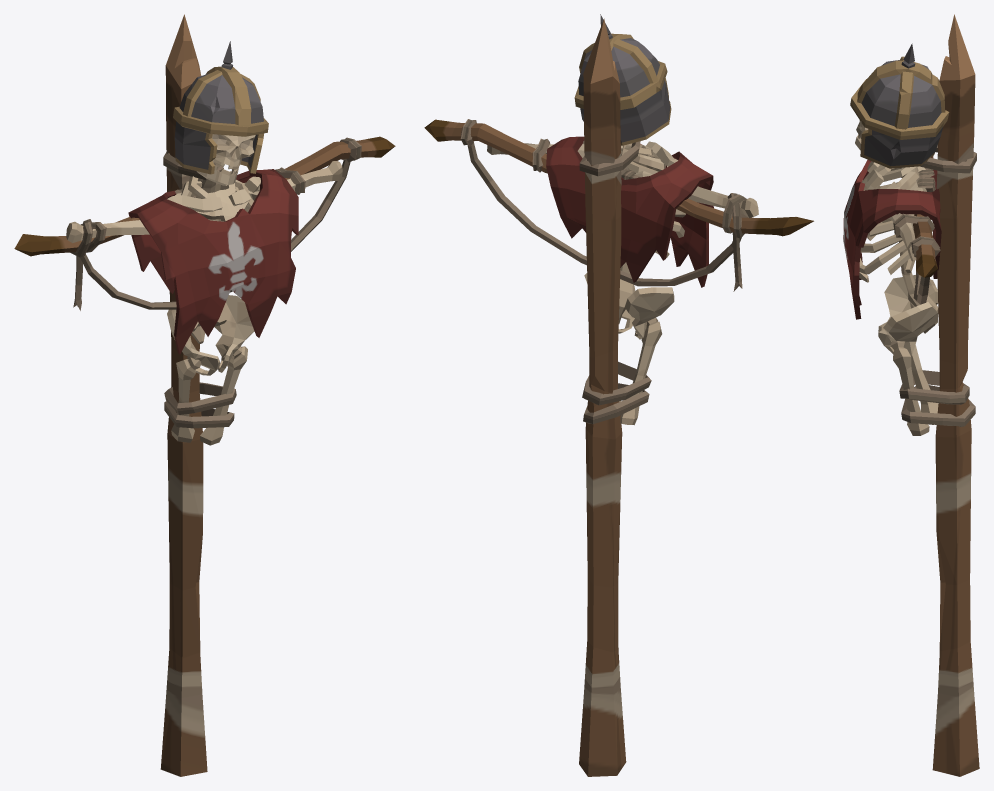
Rendered from bog_effigy_b.gltf.
3 views of the same model, side by side, from view 1: azimuth 30°, elevation 25°; view 2: azimuth 150°, elevation 25°; view 3: azimuth 270°, elevation 25° (orthographic).
Parts seen in each view (by area): view 1: bog_effigy_b; view 2: bog_effigy_b; view 3: bog_effigy_b.
Boxes of the visible parts, <box> form: bog_effigy_b: <box>14,14,395,776</box>; bog_effigy_b: <box>424,14,813,776</box>; bog_effigy_b: <box>843,14,979,776</box>.
Bounding box in the file's own units: 1.53 × 2.85 × 0.4678.
1 material, 1 textured.
